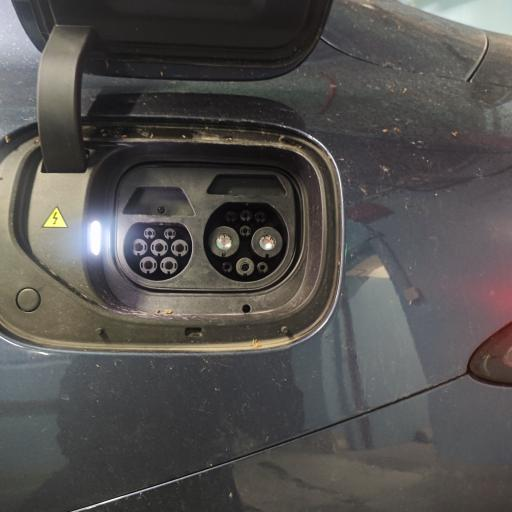AC_charging_hole: (121, 220, 195, 285)
DC_charging_port: (201, 199, 292, 287)
DC_hole: (206, 224, 242, 261), (250, 225, 284, 260)
PE: (236, 258, 254, 278)
